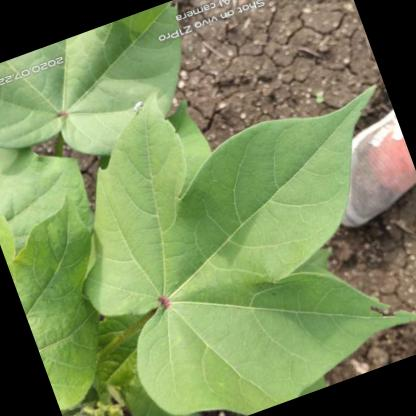cotton: (18, 13, 416, 416)
